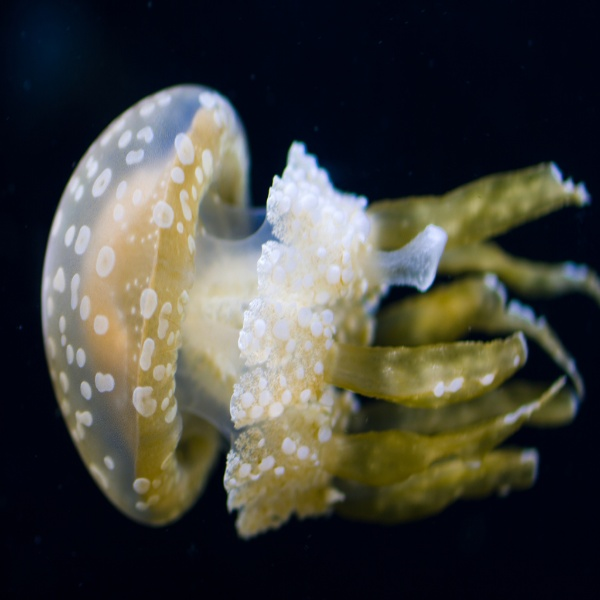Jellyfish: (40, 97, 496, 532)
